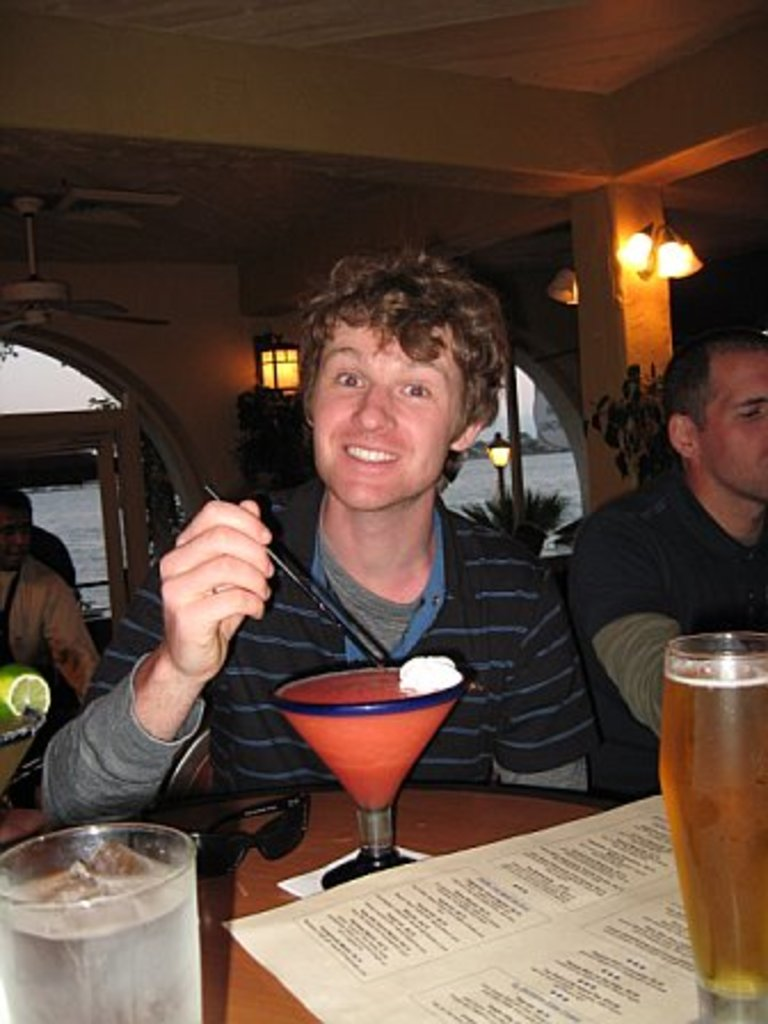Beer: (653, 651, 765, 1003)
